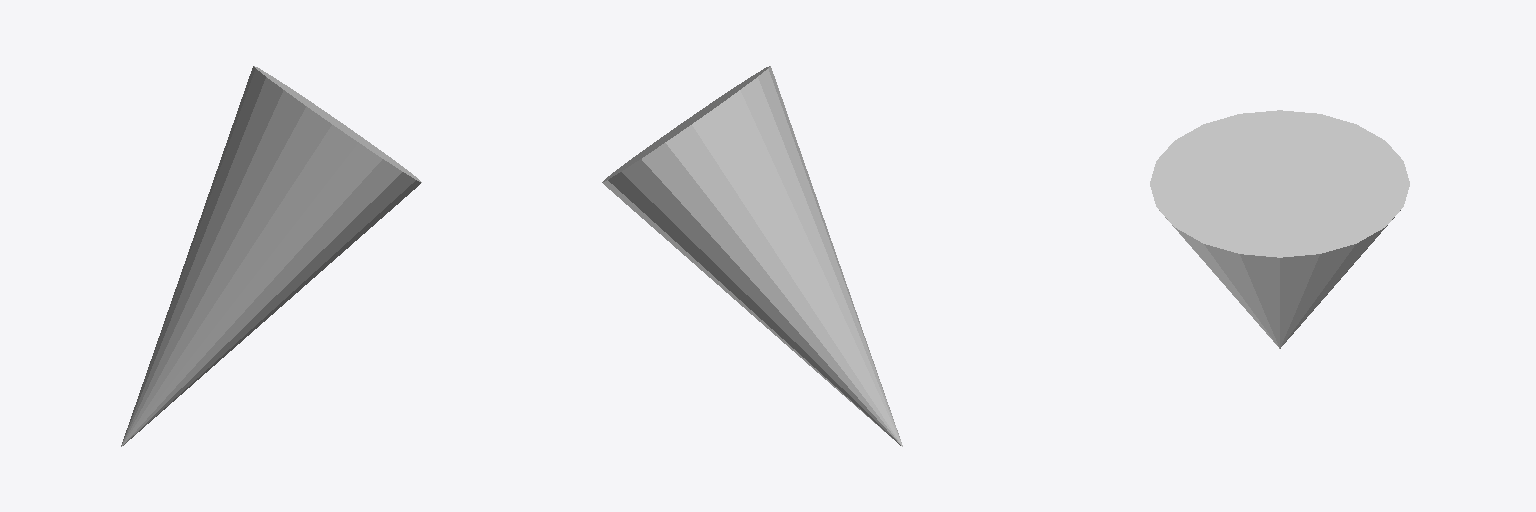
The model's file is wingLS.obj.
The picture shows the model from 3 angles: view 1: azimuth 30°, elevation 25°; view 2: azimuth 150°, elevation 25°; view 3: azimuth 270°, elevation 25°; orthographic projection.
Parts seen in each view (by area): view 1: alaL; view 2: alaL; view 3: alaL.
Boxes of the visible parts, box(x1,y1,x2,y2) form: alaL: box(121, 66, 421, 446); alaL: box(602, 66, 902, 446); alaL: box(1150, 110, 1409, 348).
Bounding box in the file's own units: 0.9629 × 1.08 × 0.8.